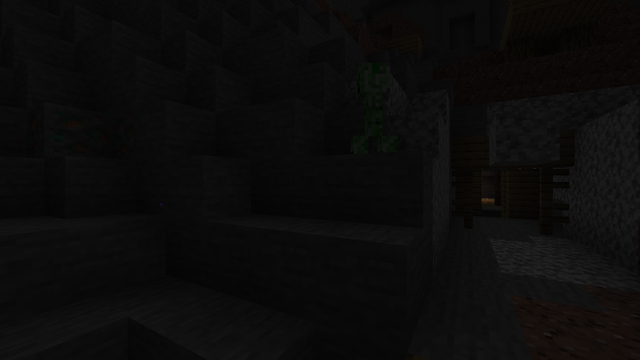creepers: (350, 53, 392, 138)
